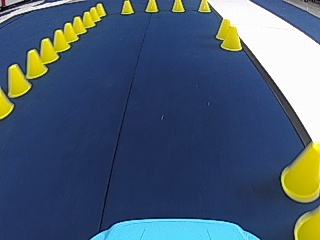cone: (280, 143, 319, 203), (294, 205, 319, 239), (8, 65, 31, 98), (27, 50, 47, 78), (221, 26, 243, 51), (40, 38, 59, 64), (215, 17, 233, 40), (0, 90, 14, 119), (53, 30, 70, 52), (62, 22, 78, 44), (73, 15, 87, 36), (82, 12, 95, 28), (120, 1, 133, 14), (145, 0, 158, 13), (172, 0, 185, 13), (89, 8, 100, 22), (198, 1, 210, 13), (95, 4, 106, 17)
